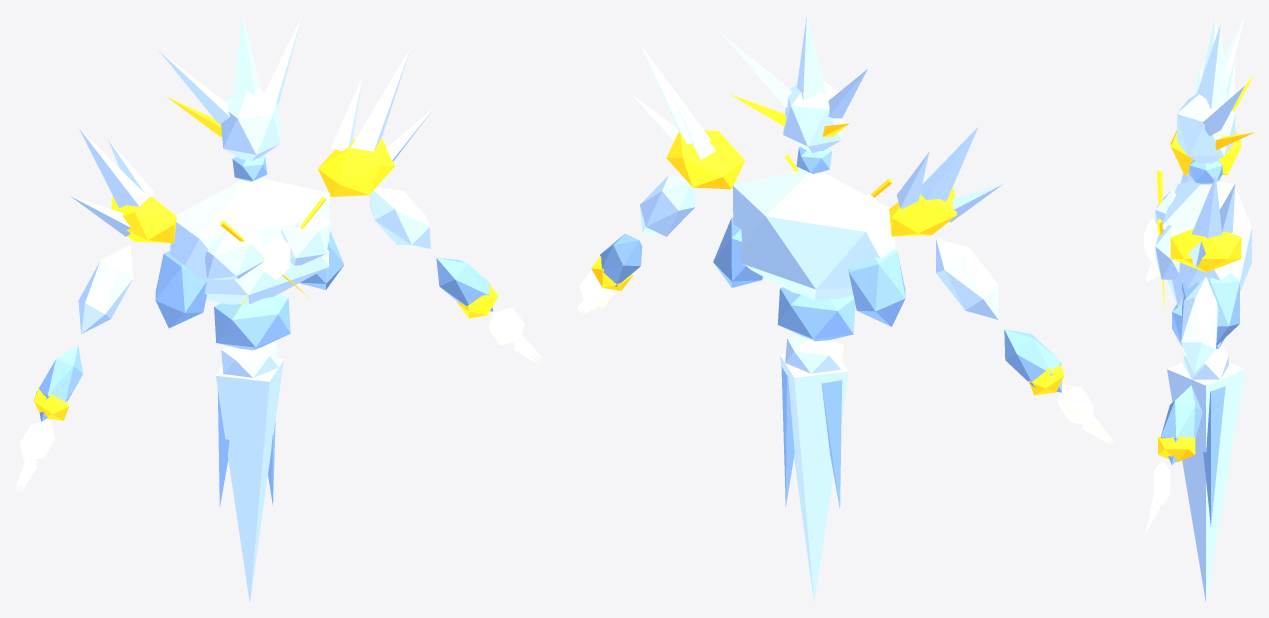
File: light_god_D.glb
The picture shows the model from 3 angles, left to right: view 1: azimuth 30°, elevation 25°; view 2: azimuth 150°, elevation 25°; view 3: azimuth 270°, elevation 25°; orthographic projection. The views are drawn at different scales.
Parts seen in each view (by area): view 1: god_body; view 2: god_body; view 3: god_body.
Part boxes in pixels (x1,y1,x2,y2): god_body: (14,14,545,602); god_body: (575,14,1114,602); god_body: (1144,14,1254,603).
Bounding box in the file's own units: 2.49 × 2.62 × 0.454.
